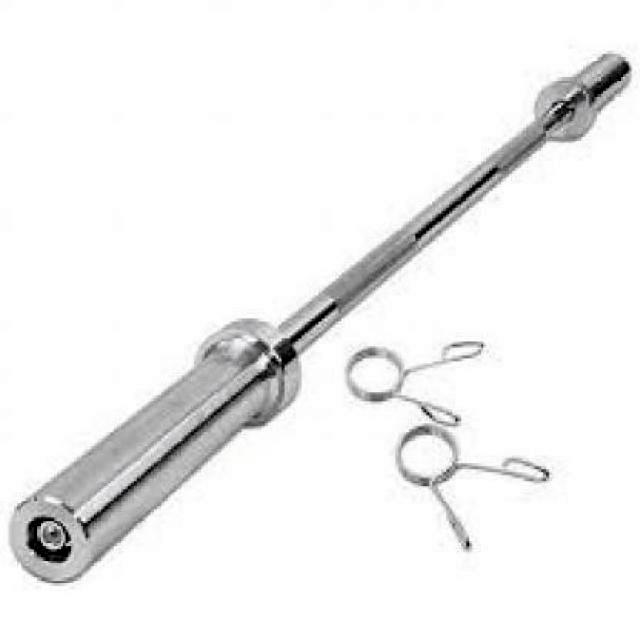barbell: (6, 307, 310, 590)
